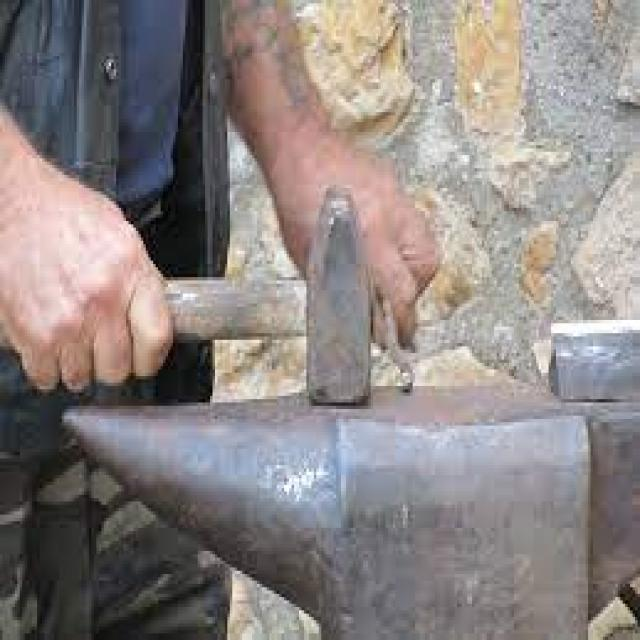hammer: (0, 173, 385, 400)
